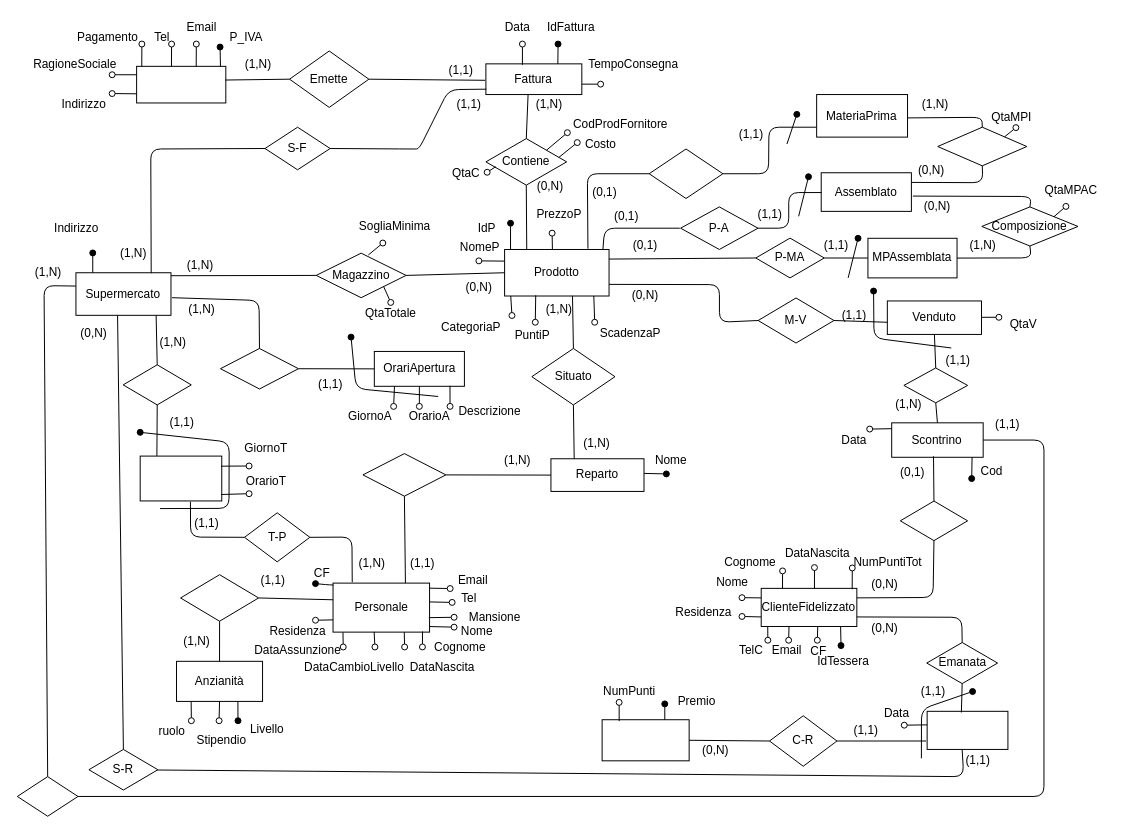
Some shapes in this 1123 by 834 pixel diagram are drawn without their labels. Here are the shapes that lost their labels. From the top down, the centre of each, then its label:
point 181,84: Fornitore
point 982,146: Ingrediente
point 685,173: P-M
point 156,384: S-T
point 258,368: S-O
point 935,385: S-V
point 180,478: TurnoLavoro
point 404,474: Lavora
point 933,520: S-C
point 219,597: A-R
point 645,740: Catalogo
point 967,729: Ricevuta
point 47,796: S-S
